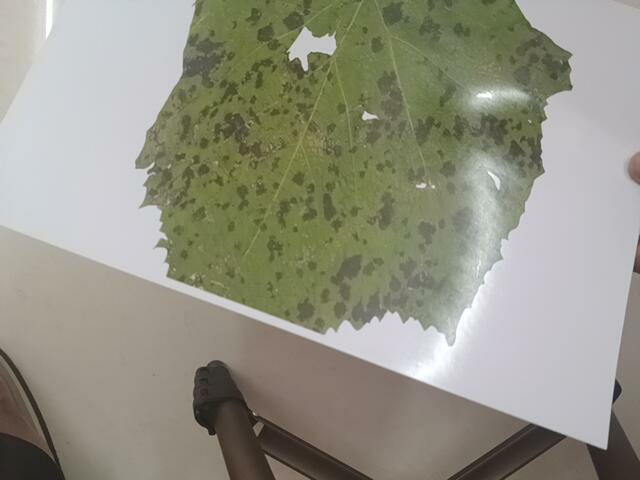Grape_Blight_Leaf: (139, 4, 596, 348)
